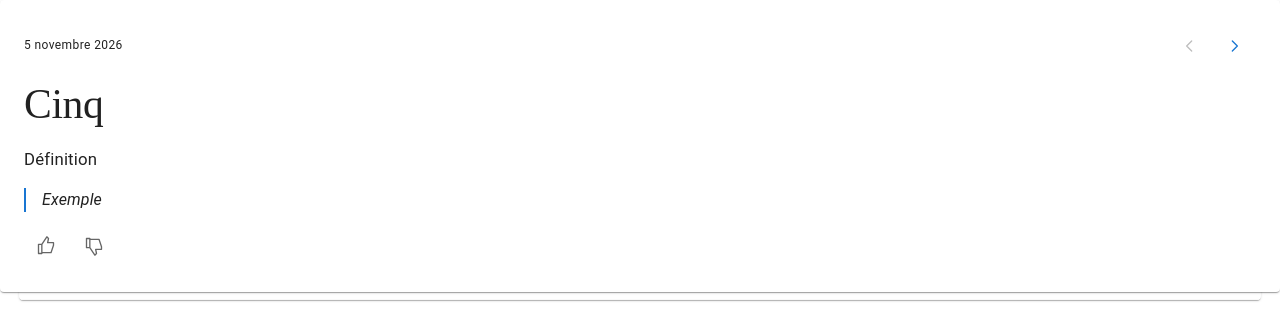
Test case: promeut le même élément de carte, sans le recréer ni changer son contenu
The width and height of the screenshot is (1280, 319).
Click the button named "Autre découverte". click: {"x": 1234, "y": 46}
box: [1212,24,1256,68]
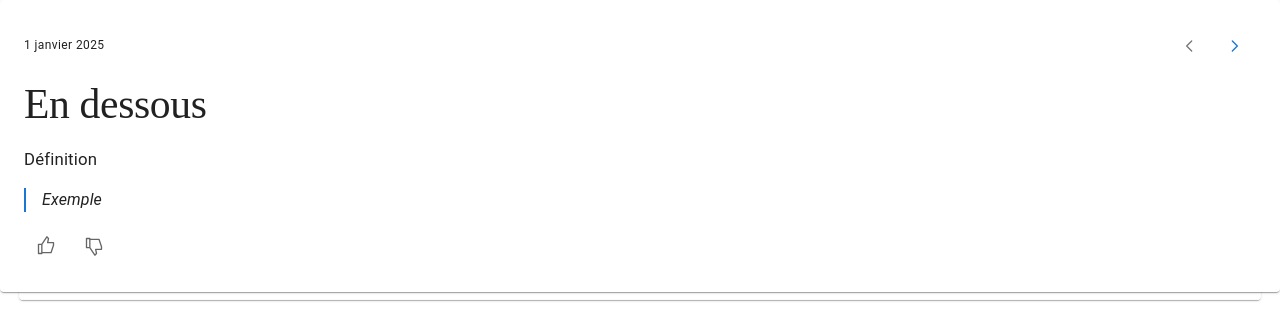
Expected: the heading "En dessous" is shown, [24,81,207,127]
Expected: the element showing "1 janvier 2025 En dessous Définition Exemple" does not have attribute inert
